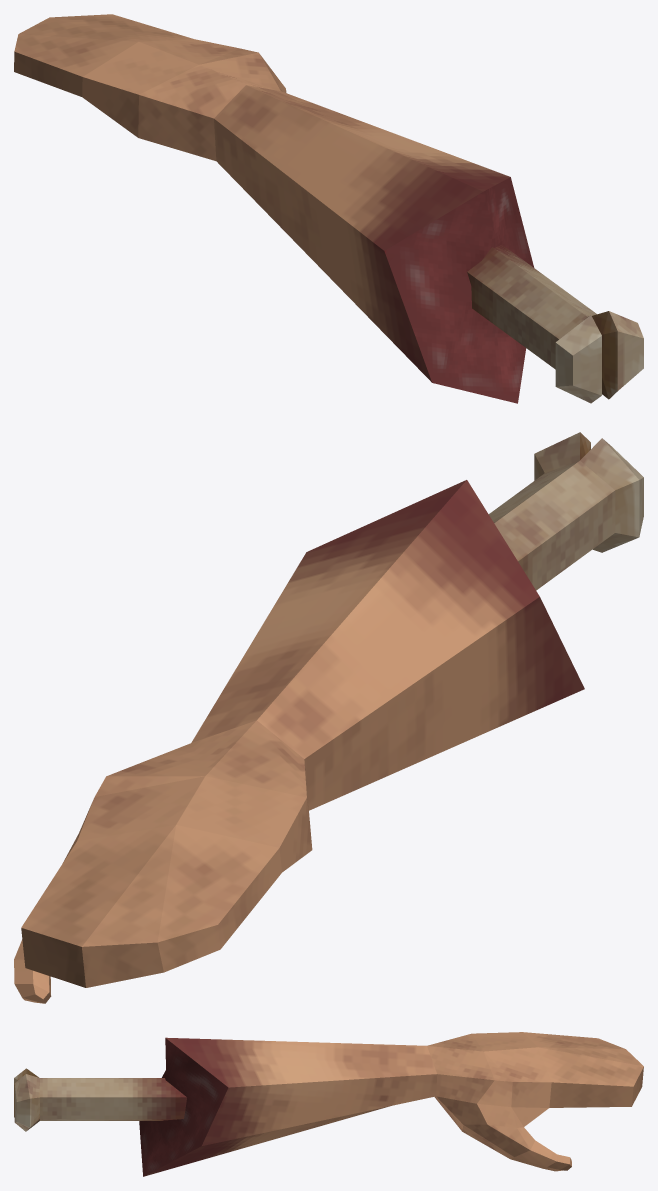
File: ArmMeat.fbx
The picture shows the model from 3 angles, top to bottom: view 1: azimuth 30°, elevation 25°; view 2: azimuth 150°, elevation 25°; view 3: azimuth 270°, elevation 25°; orthographic projection. The views are drawn at different scales.
Parts seen in each view (by area): view 1: ArmPart; view 2: ArmPart; view 3: ArmPart.
Part boxes in pixels (x1,y1,x2,y2): ArmPart: (14,14,643,403); ArmPart: (14,432,643,1003); ArmPart: (14,1032,643,1176).
Bounding box in the file's own units: 19.16 × 16.93 × 72.4.
